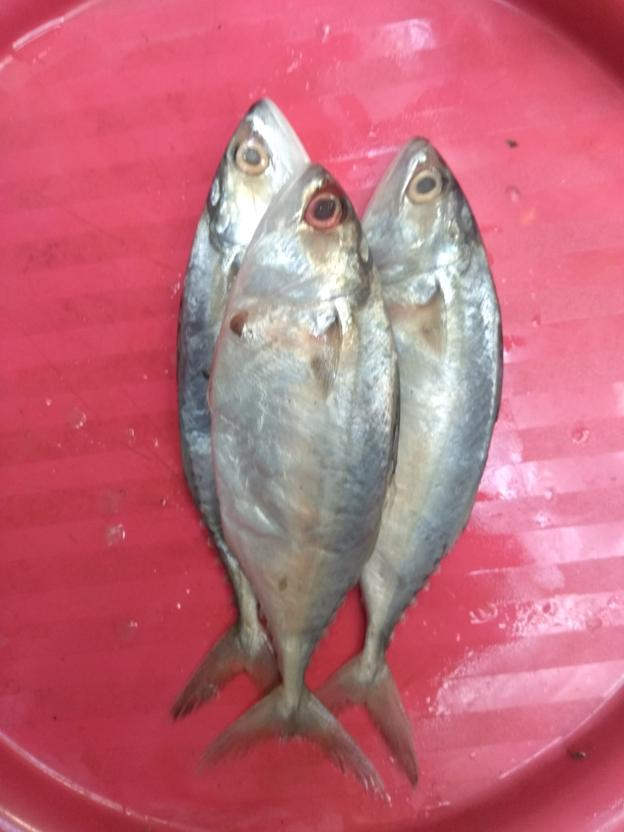Fish head: (231, 163, 380, 306), (363, 134, 484, 288), (205, 97, 311, 250)
Fish tail: (208, 683, 384, 801), (312, 655, 418, 786), (170, 616, 279, 724)
